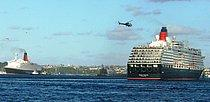Ship: (126, 29, 207, 83), (7, 52, 42, 77)
